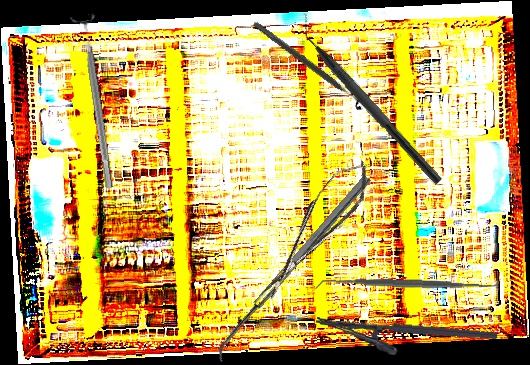Chopper: (287, 10, 455, 187)
Fixation Ring: (248, 14, 372, 113), (68, 12, 123, 191)
Micro Scissor: (246, 152, 383, 307)
Needle Holder: (313, 315, 498, 365)
Spatula Surgical: (210, 174, 378, 365), (313, 270, 502, 298)
